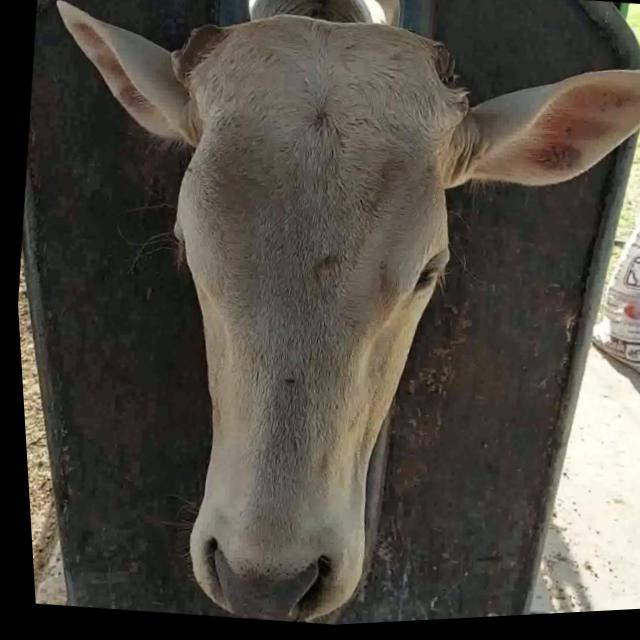cowFace: (113, 1, 490, 635)
